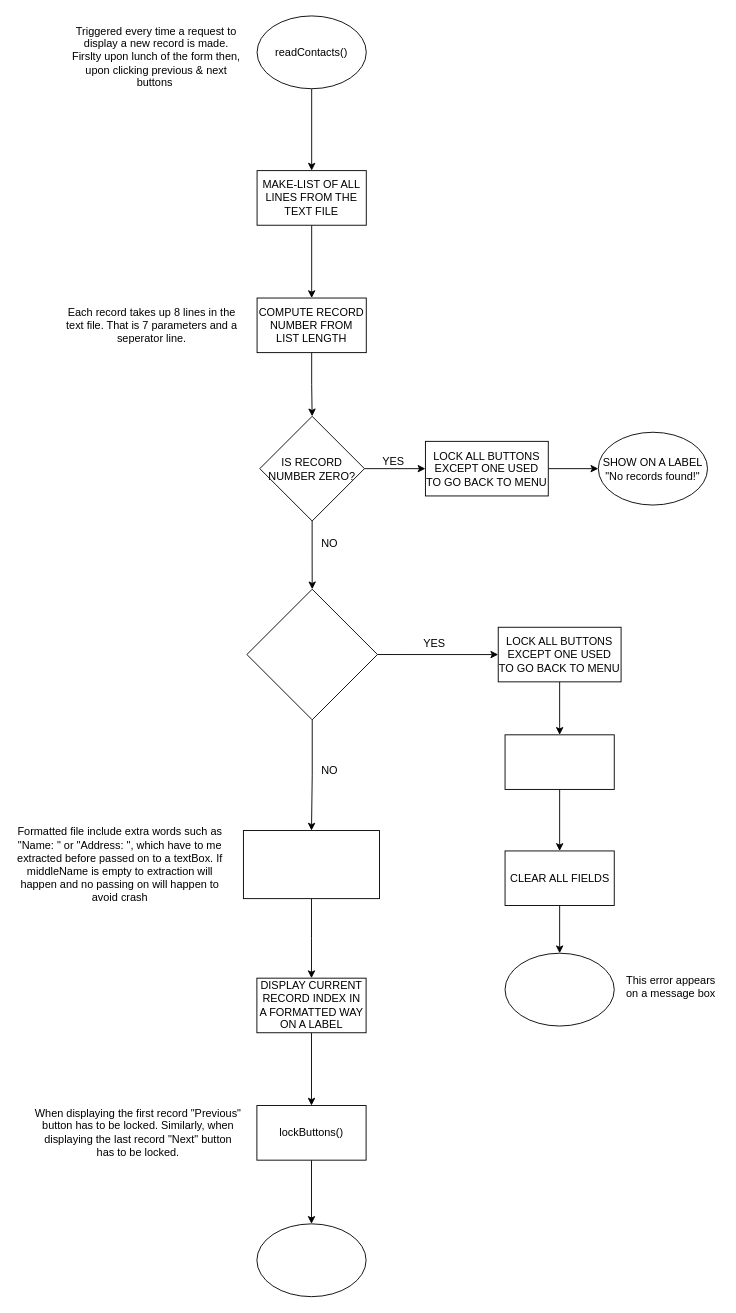
Some shapes in this 736 by 1313 pixel diagram are drawn without their labels. The centre of each missing label's shape, as x and y in pixels:
DISPLAY ERROR: Badly formatted records file!": point 559,989
END: point 311,1260
EXTRACT NEED RECORD PARAMETER FROM FORMATTED TEXT FILE: point 311,864
IS THERE A BADLY FORMATTED LINE?: point 311,654
SHOW ON A LABEL BAD RECORD DETECTED: point 559,761
